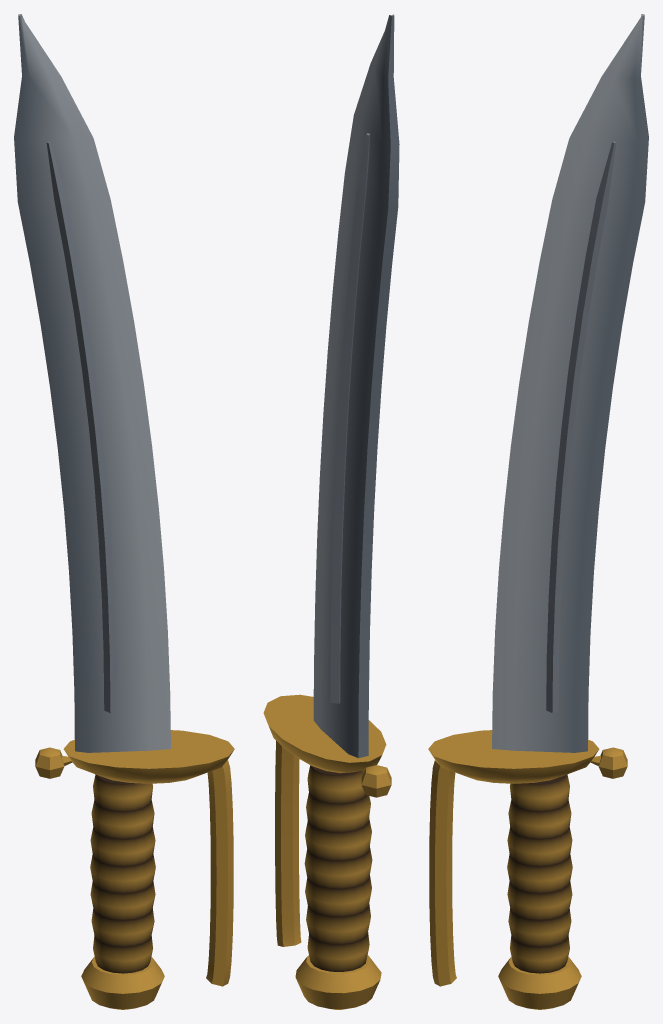
File: weapon_sword_cutlass_hi.glb
3 renders of one model, left to right at view 1: azimuth 90°, elevation 25°; view 2: azimuth 210°, elevation 25°; view 3: azimuth 270°, elevation 25°, orthographic. The views are drawn at different scales.
Visible parts, largest first — view 1: weapon_sword_cutlass_hi; view 2: weapon_sword_cutlass_hi; view 3: weapon_sword_cutlass_hi.
Boxes of the visible parts, left/top/right/bottom form: weapon_sword_cutlass_hi: left=14, top=14, right=234, bottom=1009; weapon_sword_cutlass_hi: left=263, top=14, right=399, bottom=1009; weapon_sword_cutlass_hi: left=428, top=14, right=648, bottom=1009.
Bounding box in the file's own units: 0.0902 × 1.04 × 0.2112.
